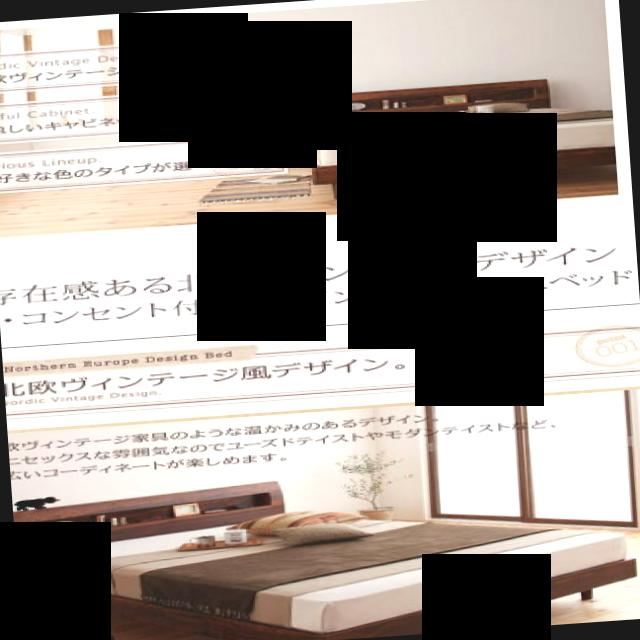bed vintage: (11, 449, 640, 640)
